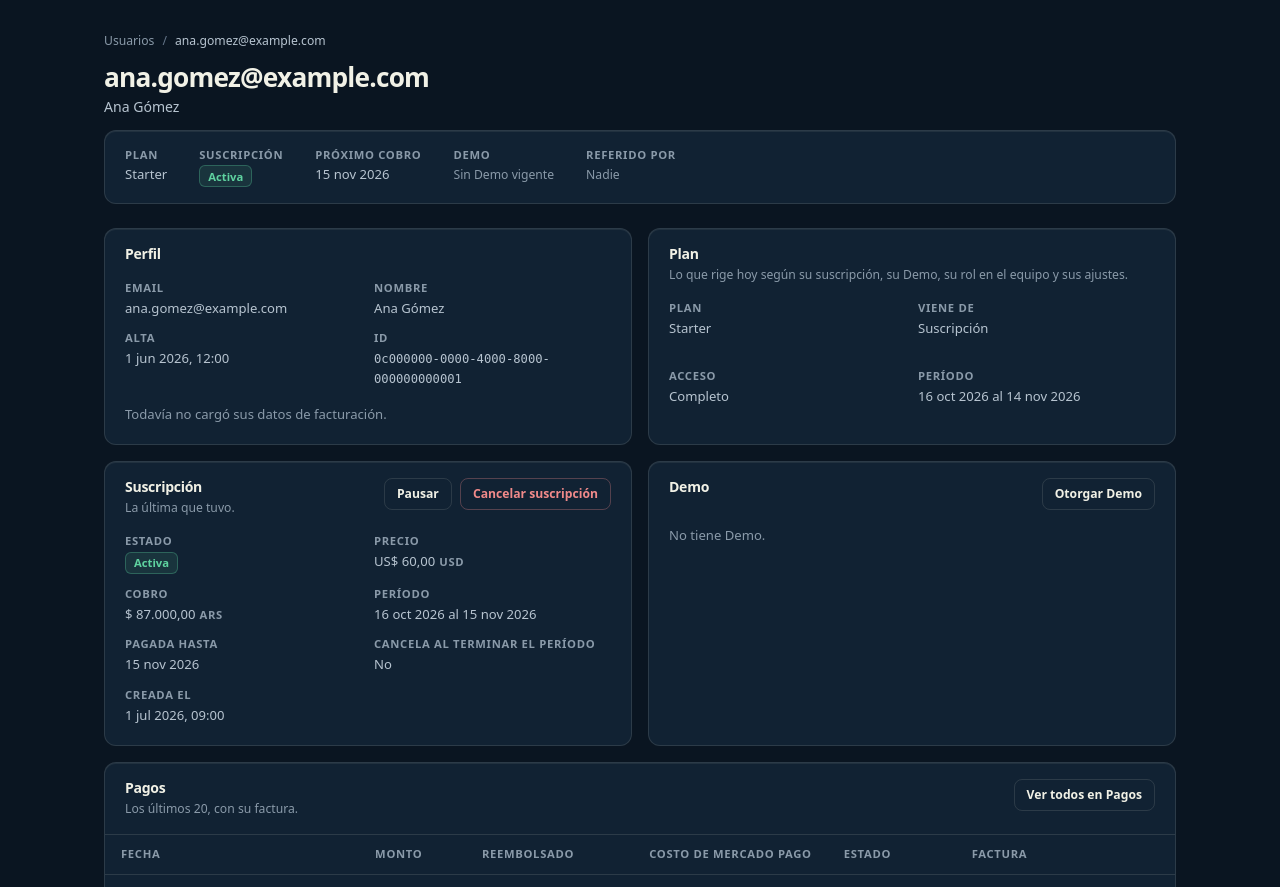
Test: CustomerDetailScreen › gives the owner every action and sends the reason
Expected: the heading "Suscripción" is shown, x1=125 y1=477 x2=202 y2=496
Expected: the button "Cancelar suscripción" is shown, x1=460 y1=478 x2=611 y2=510
Click the button "Pausar". click: (418, 494)
box: x1=384 y1=478 x2=452 y2=510
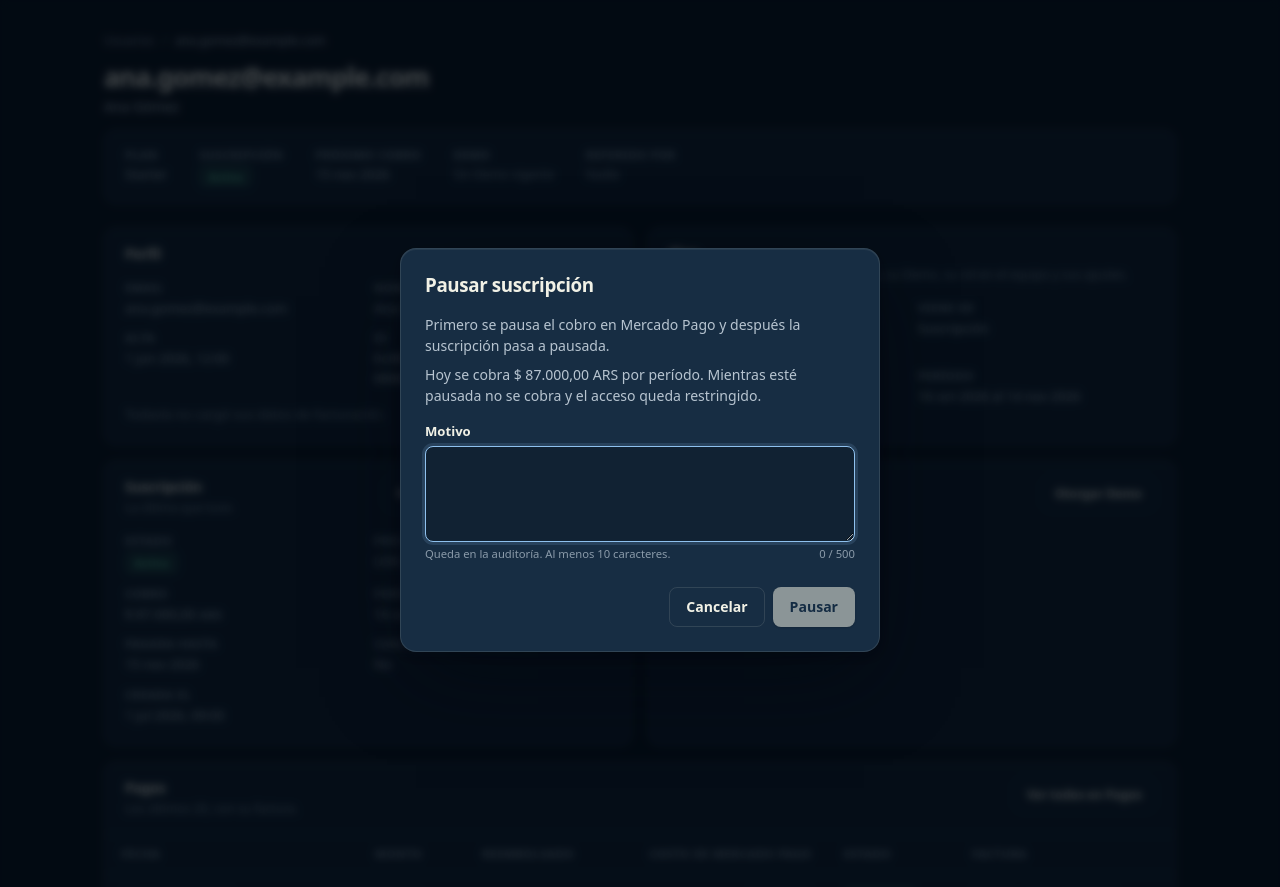
Expected: the text "87.000,00 ARS por período" is shown, x1=425 y1=365 x2=797 y2=405
Type "Pidió frenar el cobro por vacaciones" into the text box labelled "Motivo". click: (640, 494)
box: x1=425 y1=446 x2=855 y2=542
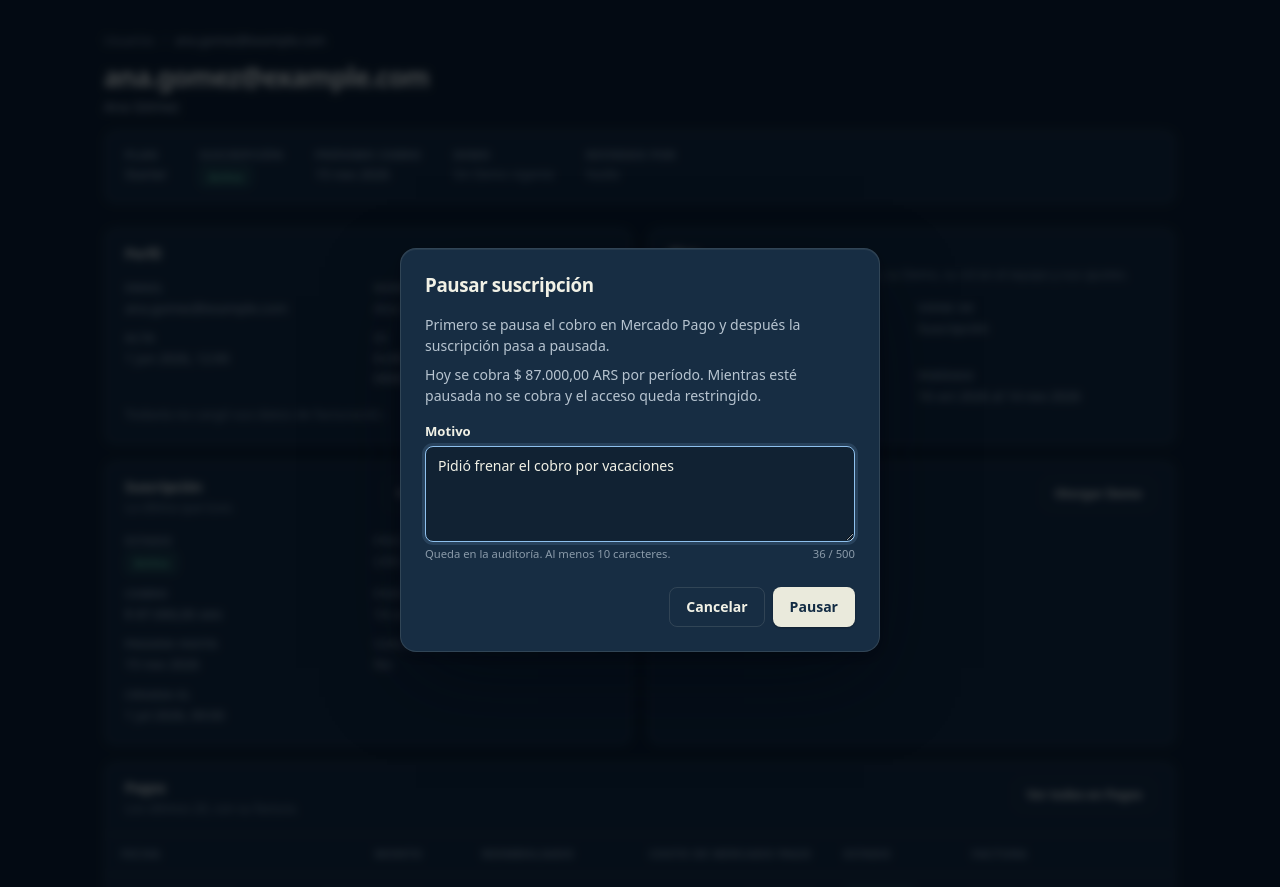
Click the button "Pausar". click: (814, 607)
box: x1=773 y1=587 x2=855 y2=627
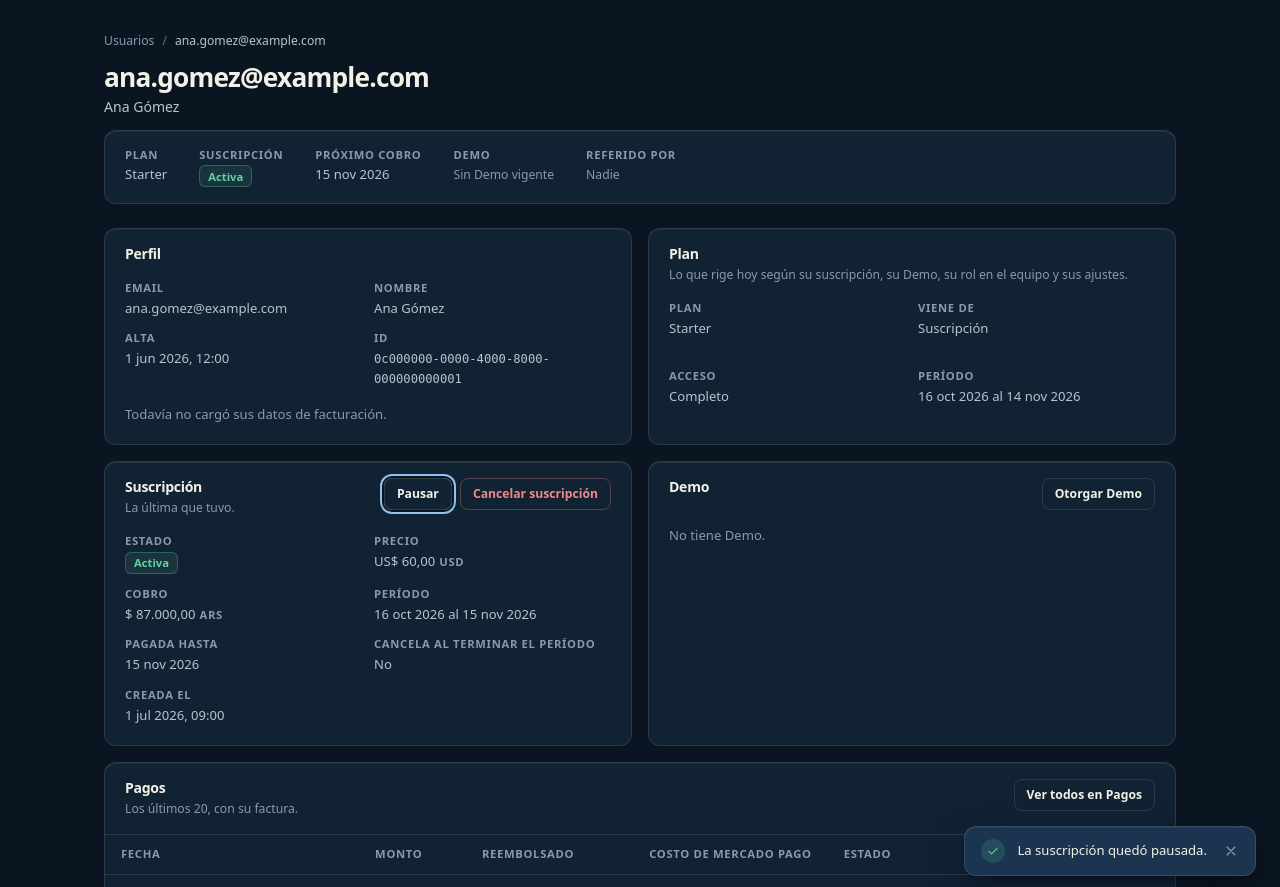
Expected: the text "La suscripción quedó pausada." is shown, x1=1017 y1=841 x2=1207 y2=861
